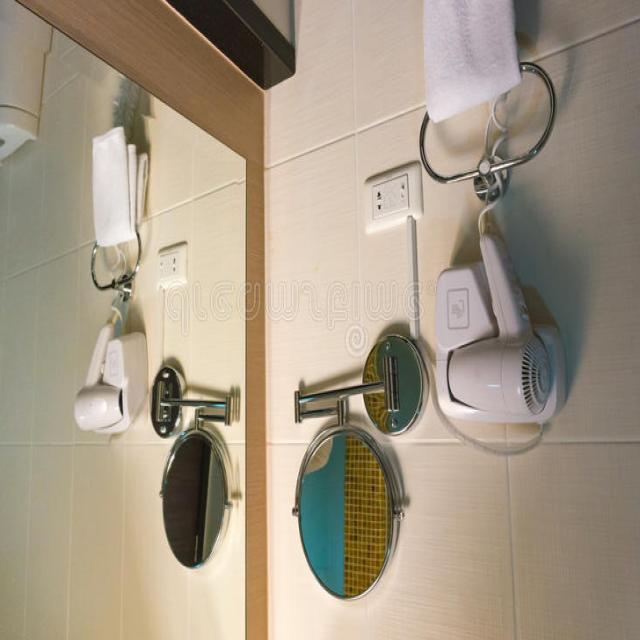dryer: (418, 49, 592, 466), (433, 194, 573, 430)
